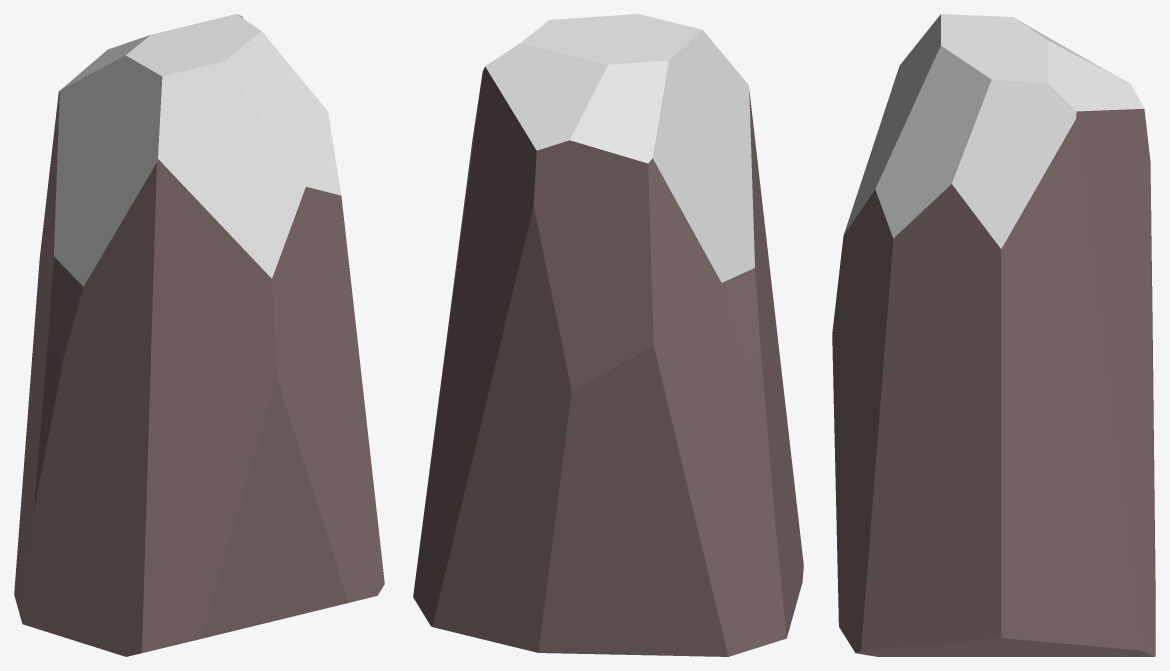
File: rock3.fbx
3 renders of one model, left to right at view 1: azimuth 30°, elevation 25°; view 2: azimuth 150°, elevation 25°; view 3: azimuth 270°, elevation 25°, orthographic. The views are drawn at different scales.
Visible parts, largest first — view 1: 柱体.048; view 2: 柱体.048; view 3: 柱体.048.
Part boxes in pixels (x1,y1,x2,y2): 柱体.048: (14,14,384,656); 柱体.048: (413,14,803,656); 柱体.048: (832,14,1155,656).
Bounding box in the file's own units: 160 × 243 × 127.
